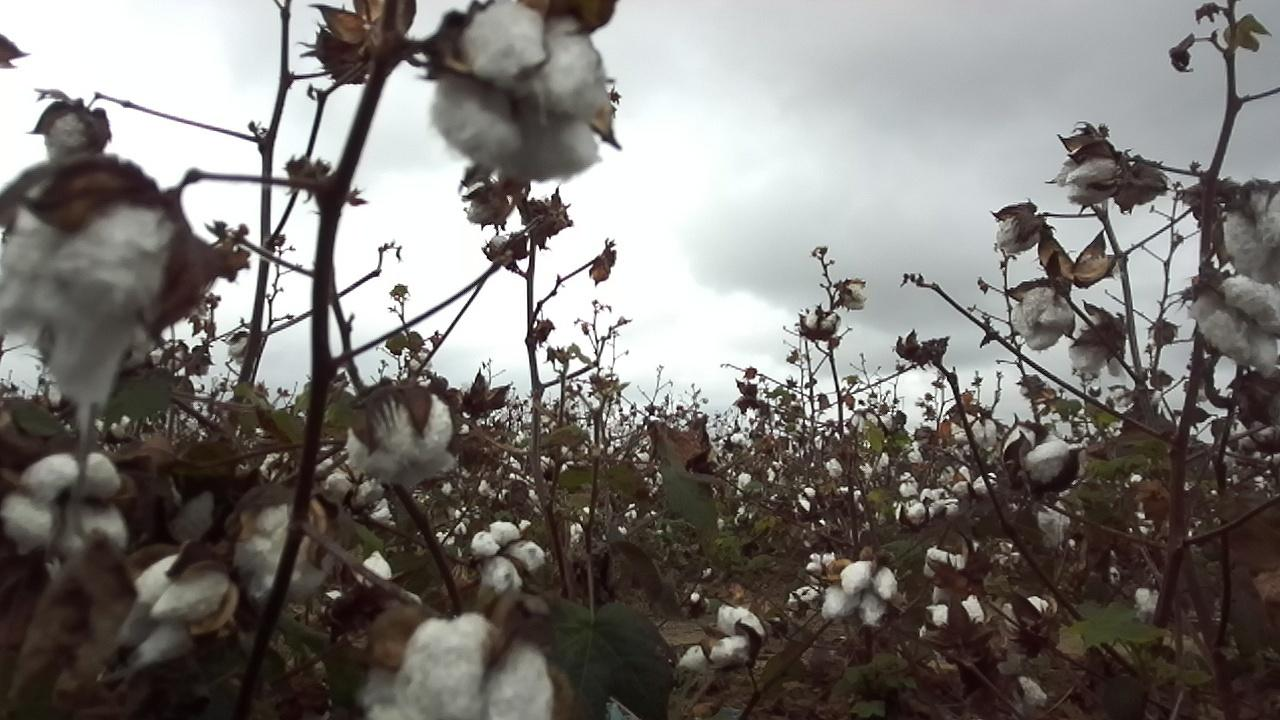cotton_ready: (0, 183, 170, 406), (427, 0, 610, 180), (366, 616, 555, 720), (5, 452, 127, 559), (123, 556, 229, 669), (348, 392, 453, 490), (237, 500, 323, 598), (1193, 277, 1280, 369), (678, 603, 765, 675), (325, 552, 421, 617), (1222, 187, 1280, 284), (1004, 429, 1085, 492), (472, 522, 543, 592), (823, 563, 897, 626), (311, 441, 381, 506), (1014, 285, 1075, 353), (1069, 320, 1127, 379), (1056, 152, 1120, 204), (920, 595, 985, 645), (46, 112, 100, 169), (923, 547, 967, 598), (1003, 595, 1050, 641), (467, 174, 507, 225), (1033, 500, 1071, 552), (1008, 676, 1047, 720), (995, 210, 1033, 250)
